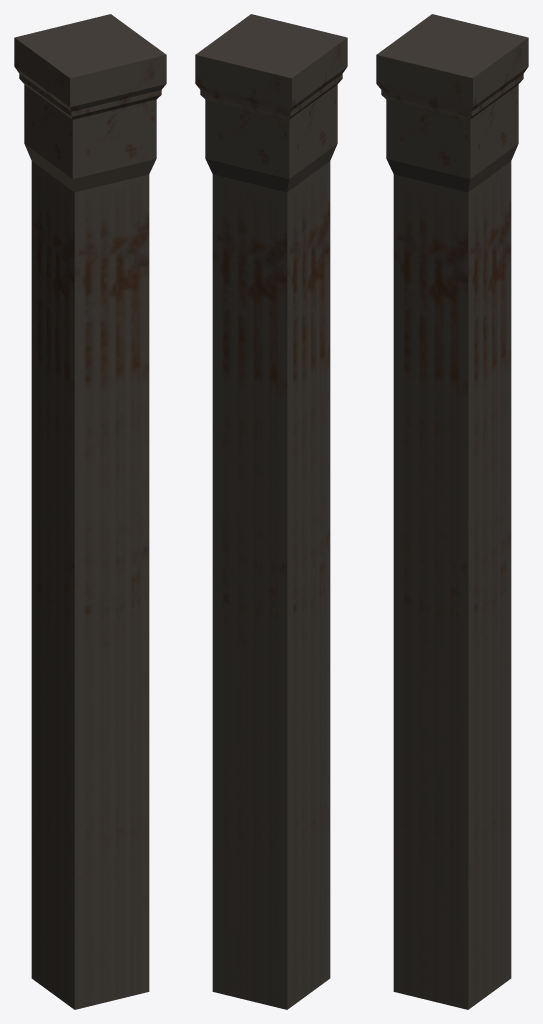
File: metal_column_small_top.glb
3 views of the same model, side by side, from view 1: azimuth 30°, elevation 25°; view 2: azimuth 150°, elevation 25°; view 3: azimuth 330°, elevation 25° (orthographic).
Visible parts, largest first — view 1: Metal_Column_Small_Top; view 2: Metal_Column_Small_Top; view 3: Metal_Column_Small_Top.
Part boxes in pixels (x1,y1,x2,y2): Metal_Column_Small_Top: (14,14,166,1009); Metal_Column_Small_Top: (195,14,347,1009); Metal_Column_Small_Top: (376,14,528,1009).
Bounding box in the file's own units: 0.3221 × 3 × 0.3223.
Materials: 1 (1 with a texture image).
